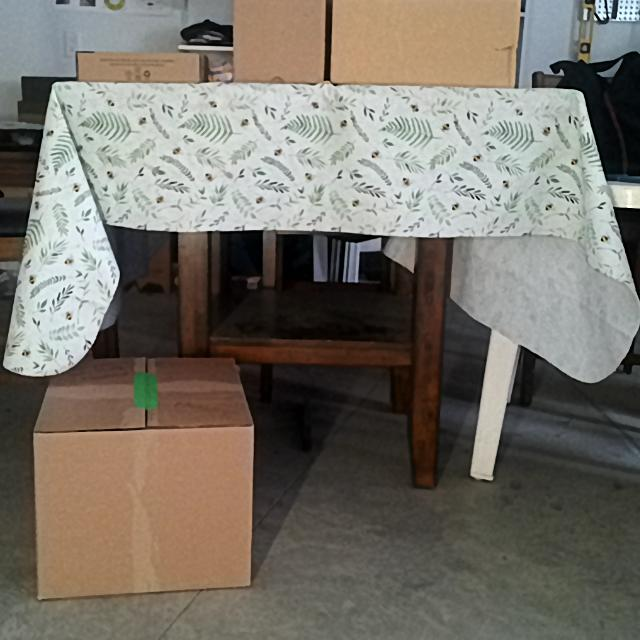box: (33, 432, 255, 592), (331, 0, 515, 85), (234, 0, 324, 81), (76, 51, 201, 82)
